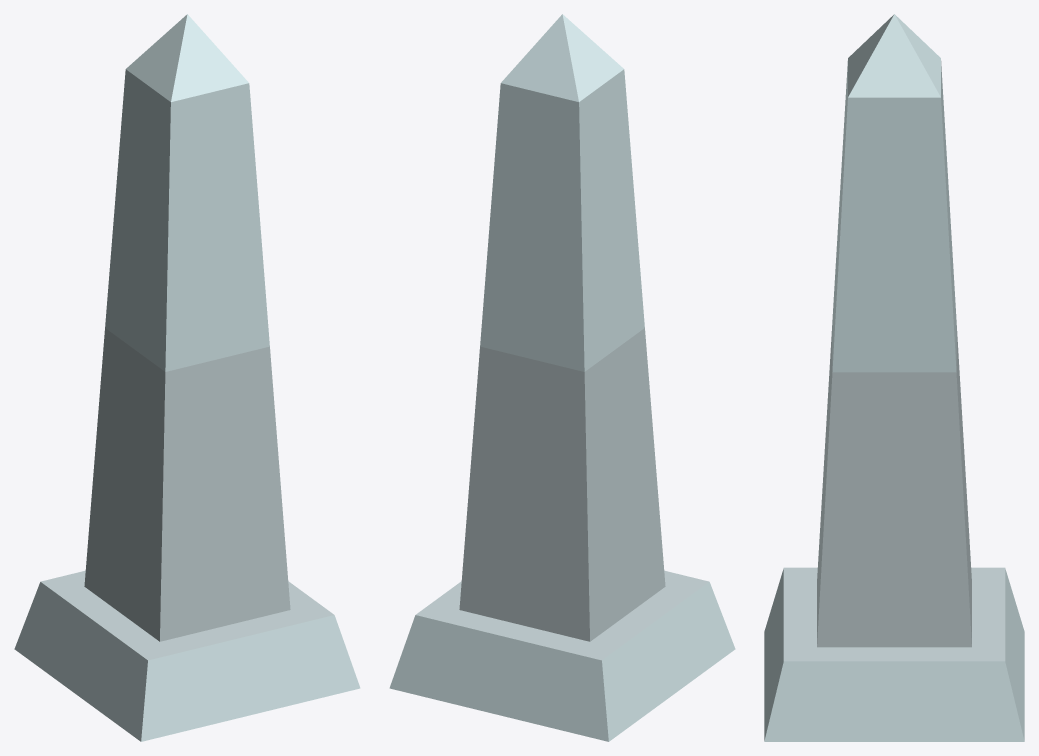
File: statue_obelisk.glb
The picture shows the model from 3 angles, left to right: view 1: azimuth 30°, elevation 25°; view 2: azimuth 150°, elevation 25°; view 3: azimuth 270°, elevation 25°; orthographic projection. The views are drawn at different scales.
Parts seen in each view (by area): view 1: statue_obelisk; view 2: statue_obelisk; view 3: statue_obelisk.
Boxes of the visible parts, x1=… form: statue_obelisk: x1=14, y1=14, x2=360, y2=741; statue_obelisk: x1=389, y1=14, x2=735, y2=741; statue_obelisk: x1=764, y1=14, x2=1024, y2=741.
Size of the model in its own units: 0.307 by 0.8754 by 0.307.
1 material, 1 textured.
